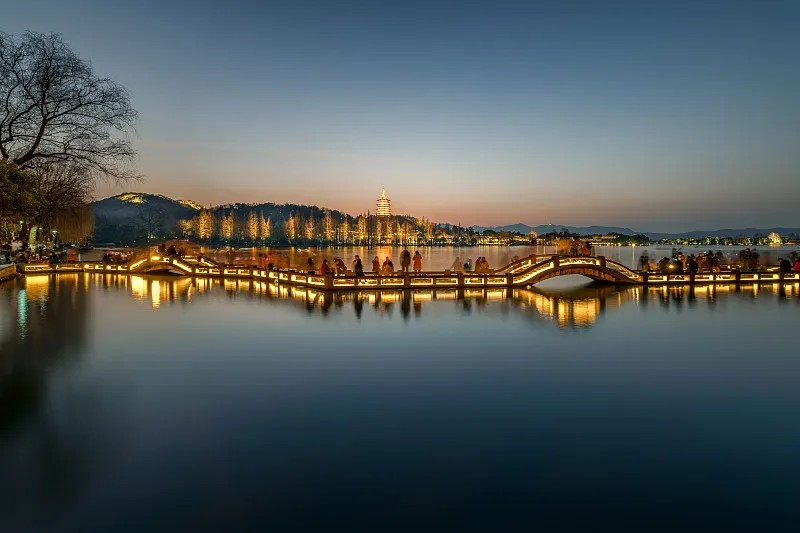Leifeng: (373, 185, 392, 216)
